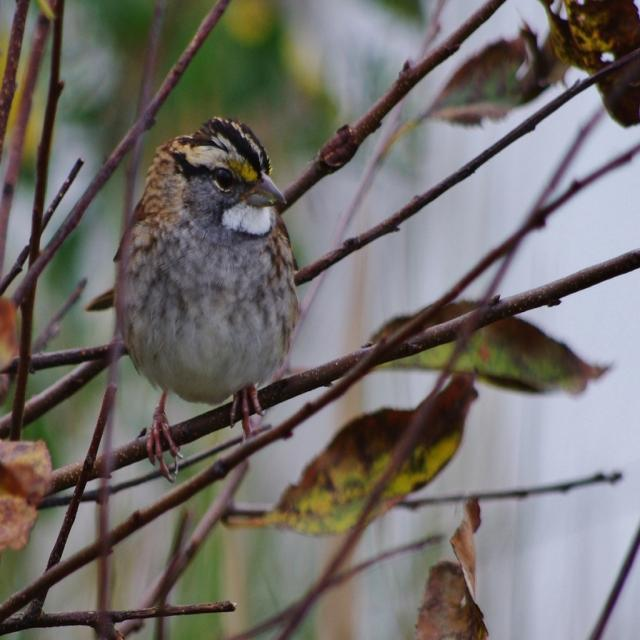bird: (94, 109, 303, 461)
